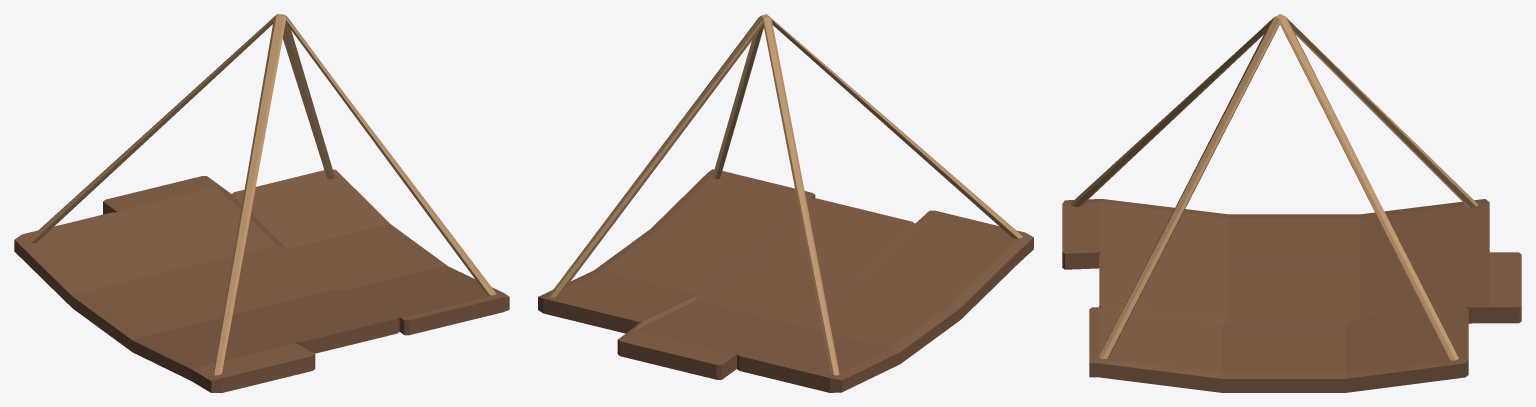
File: Charge.fbx
The picture shows the model from 3 angles, left to right: view 1: azimuth 30°, elevation 25°; view 2: azimuth 150°, elevation 25°; view 3: azimuth 270°, elevation 25°; orthographic projection. The views are drawn at different scales.
Visible parts, largest first — view 1: Charge; view 2: Charge; view 3: Charge.
Part boxes in pixels (x1,y1,x2,y2): Charge: (14,14,509,392); Charge: (538,14,1033,392); Charge: (1062,14,1521,392).
Size of the model in its own units: 104 by 88.07 by 75.5.
